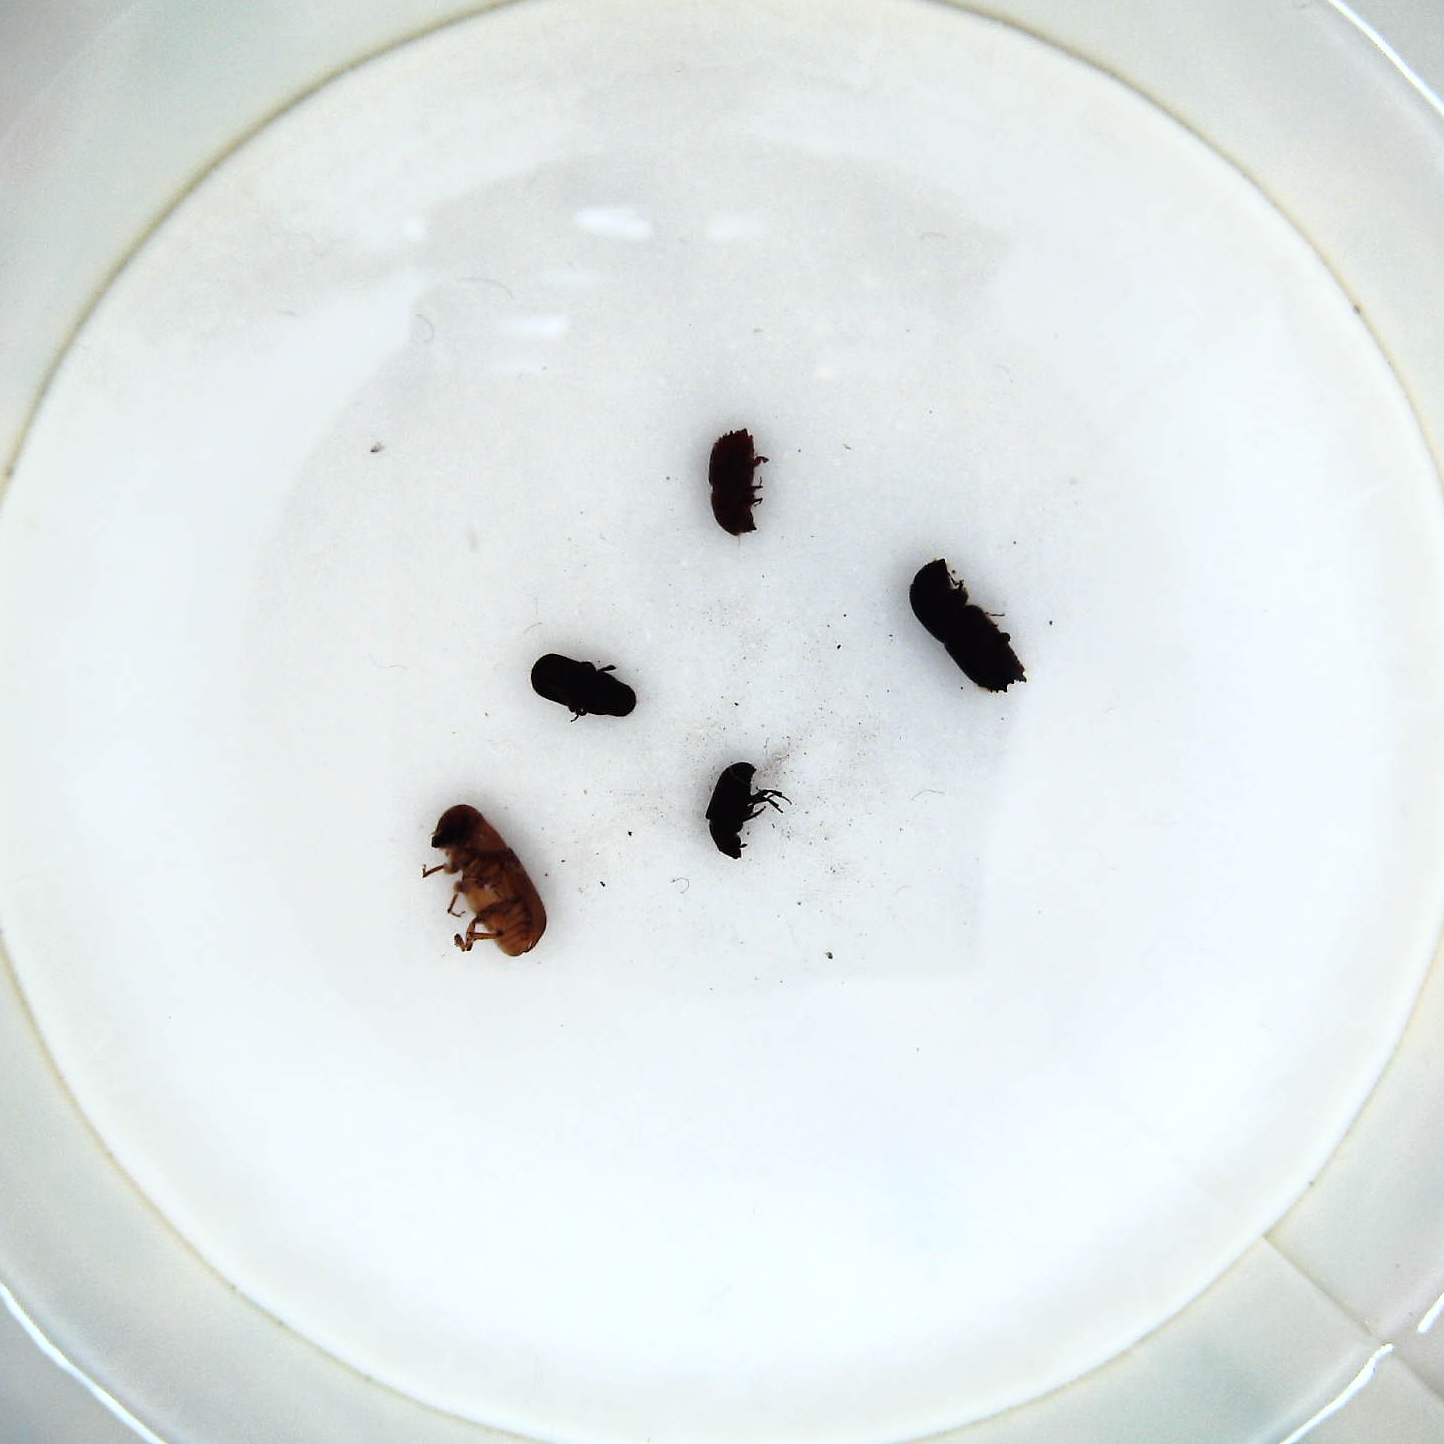Boerner: (903, 551, 1029, 703)
Leconte: (422, 800, 559, 961)
armandi: (528, 644, 644, 725)
coleoptera: (705, 759, 793, 861)
linnaeus: (705, 421, 776, 537)
